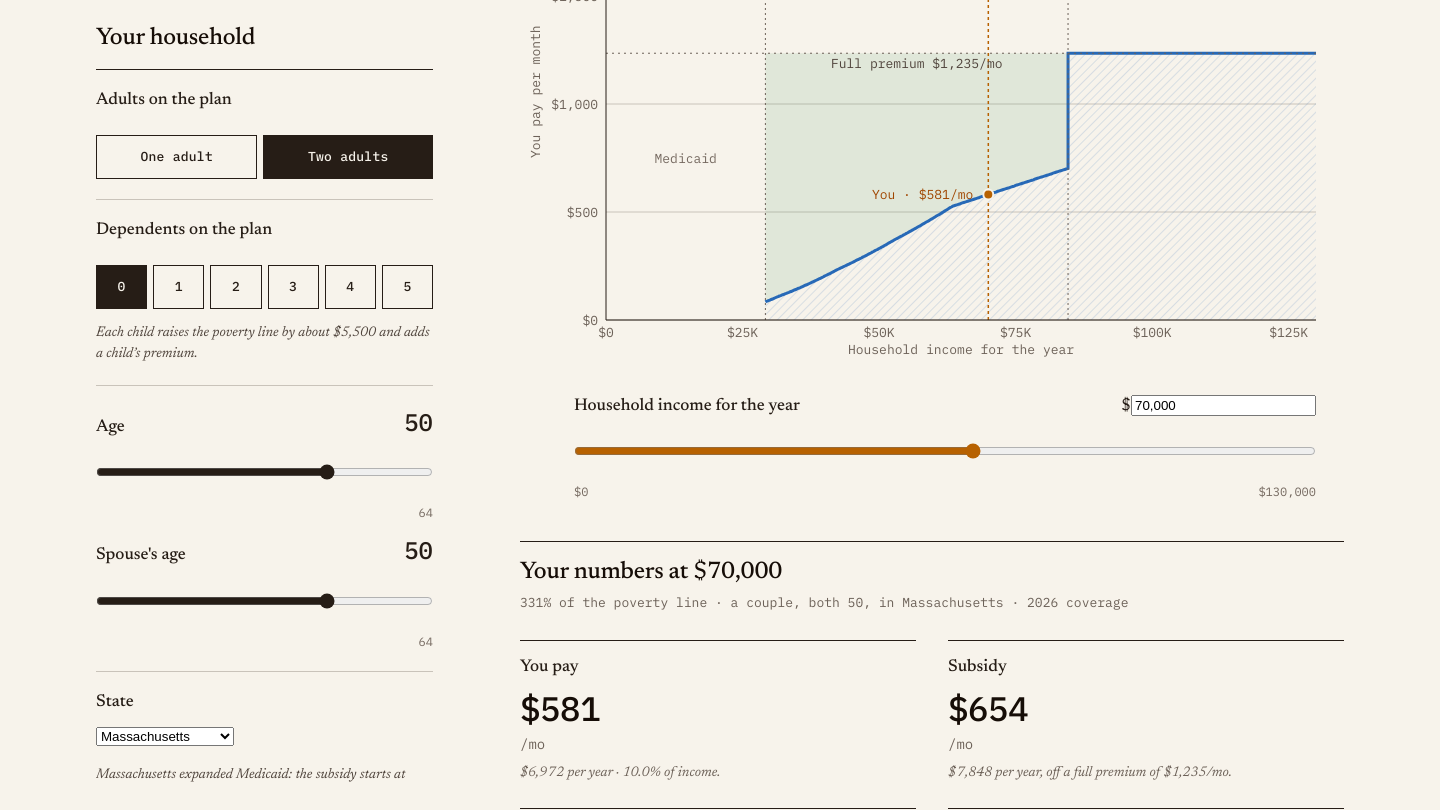
Test: the page › takes a typed income, and holds a half-typed one until the field is left
(page scrolled)
Replace the text in the field labelled "Household income for the year" with "65000" at (1224, 405), box [1131,395,1316,416]
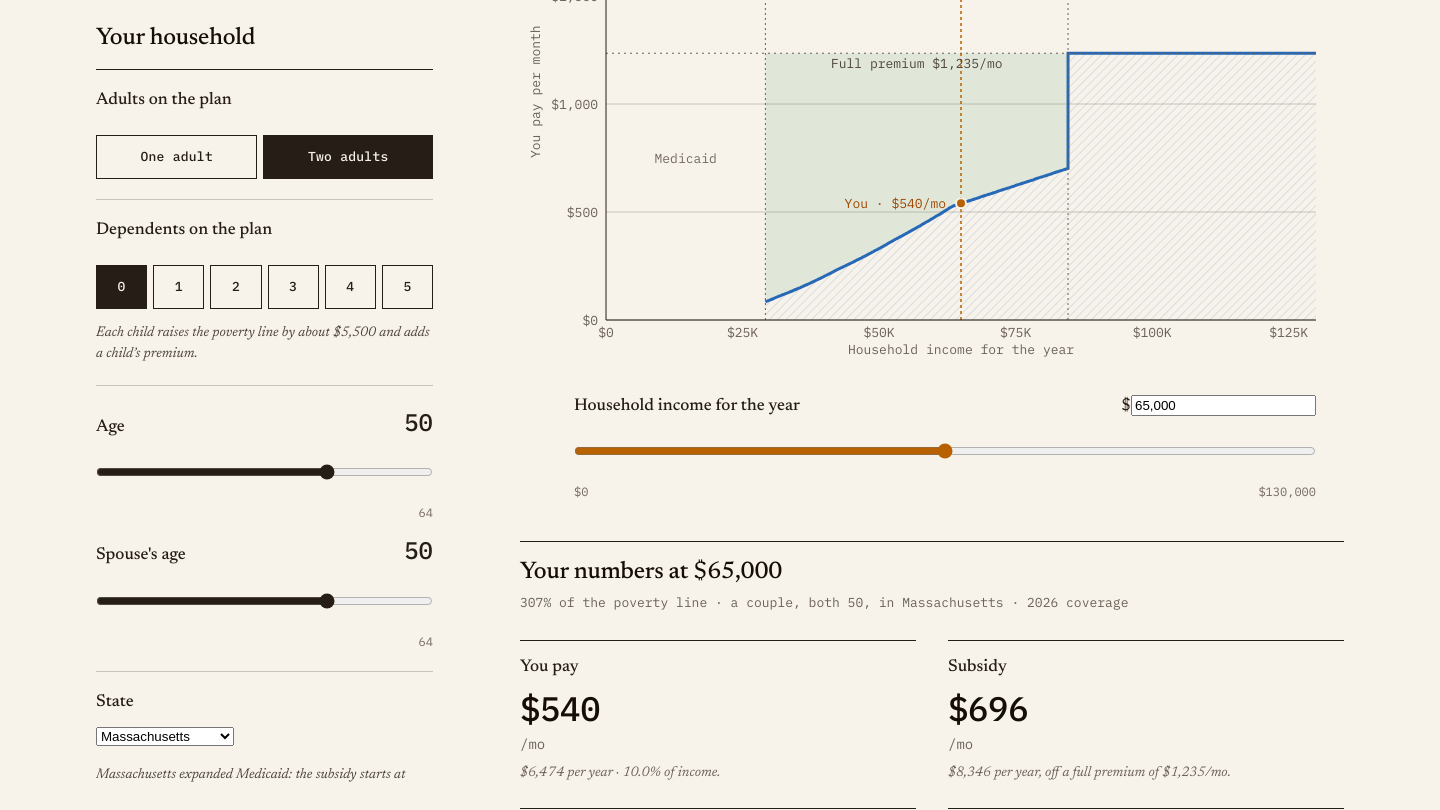
Expected: the slider named "Household income for the year" holds "65000", [574,429,1316,473]
Replace the text in the field labelled "Household income for the year" with "999999" at (1224, 405), box [1131,395,1316,416]
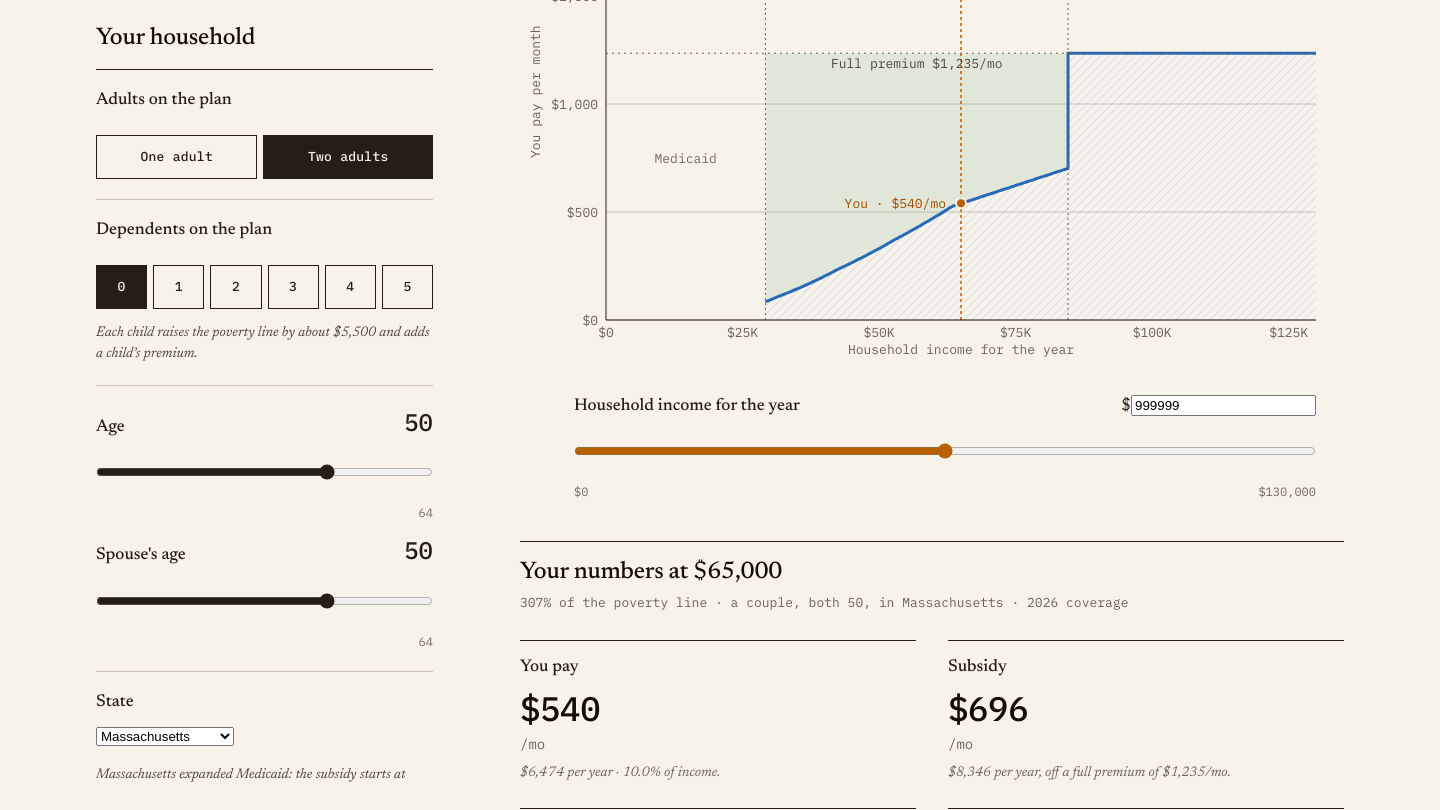
Expected: the slider named "Household income for the year" holds "65000", [574,429,1316,473]
Leave the field labelled "Household income for the year", box [1131,395,1316,416]
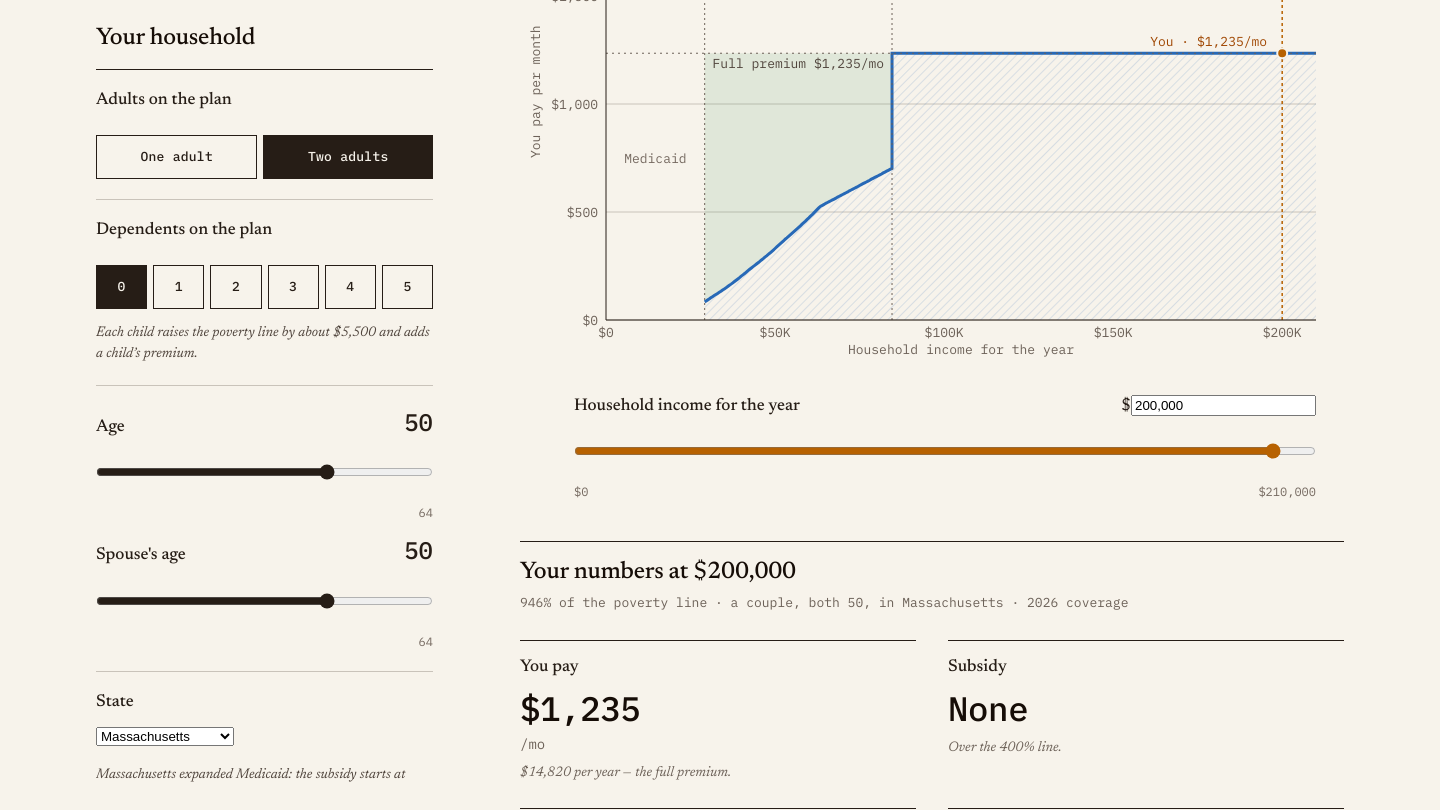
Expected: the slider named "Household income for the year" holds "200000", [574,429,1316,473]
